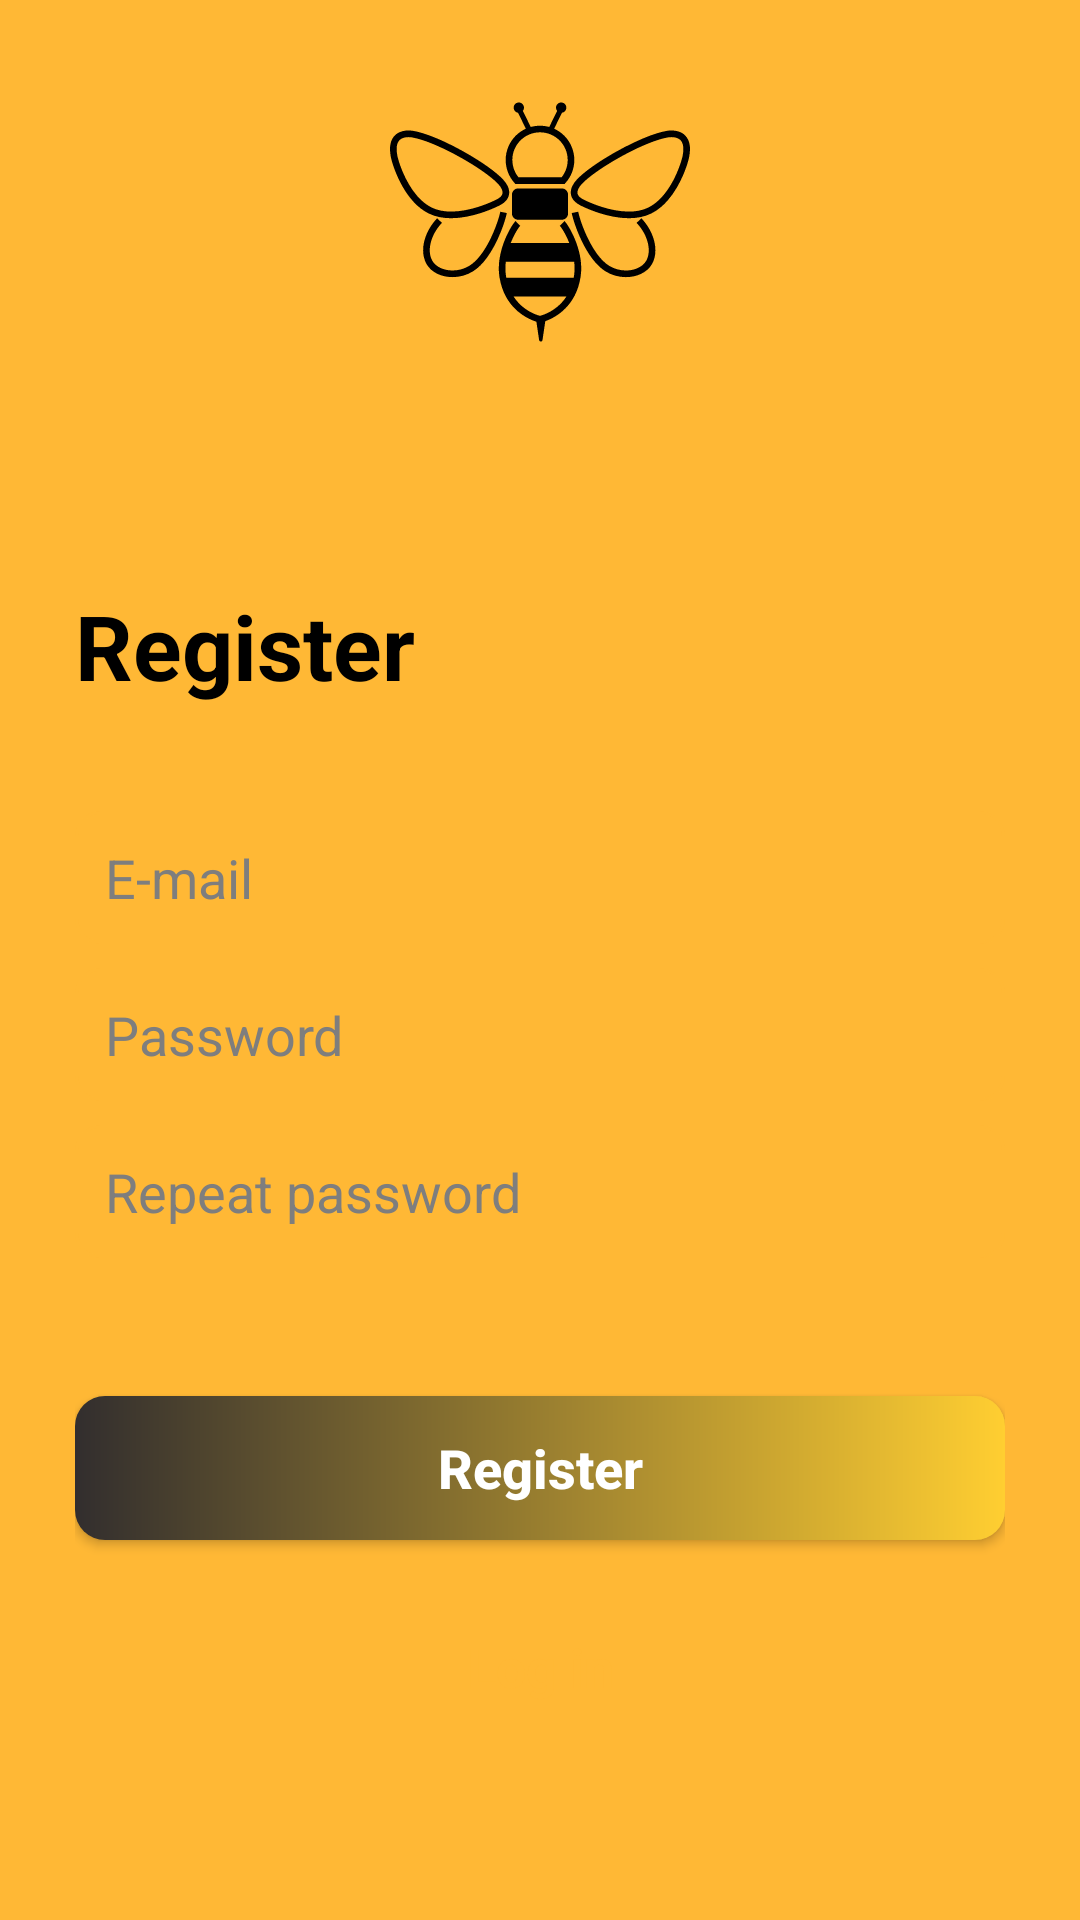

Where to tap for icons on this 1080x1920 app screen, as (x=x, y=y):
bee: (x=540, y=222)
